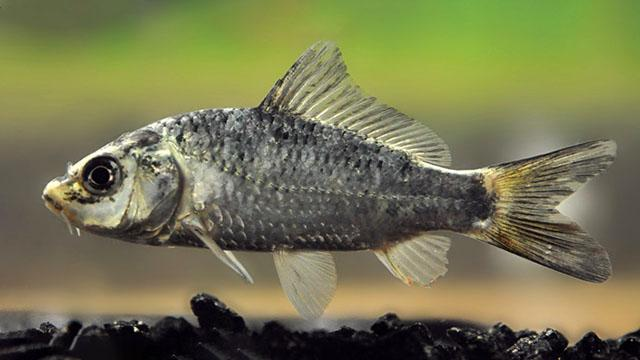Mulut: (24, 162, 76, 236)
Sirip Anal: (364, 219, 458, 296)
Sirip Dada: (176, 206, 262, 290)
Sirip Ekor: (486, 131, 630, 290)
Sirip Perut: (266, 236, 340, 334)
Sirip Punggung: (263, 33, 459, 172)
